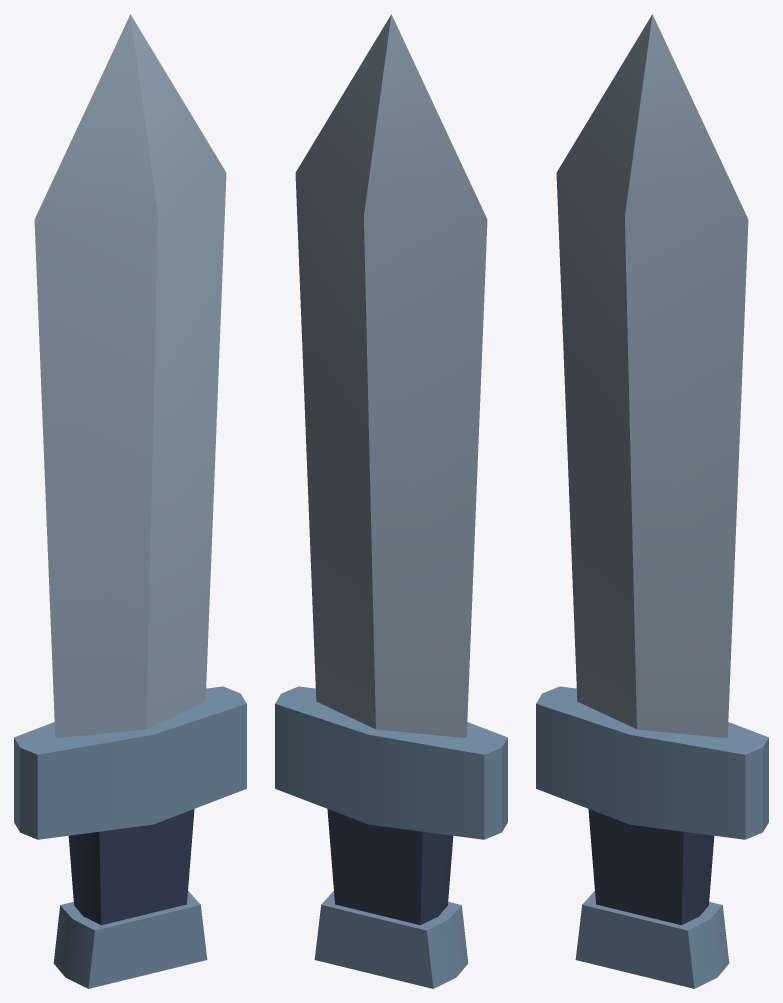
File: Sword A Multi.fbx
The picture shows the model from 3 angles, left to right: view 1: azimuth 30°, elevation 25°; view 2: azimuth 150°, elevation 25°; view 3: azimuth 330°, elevation 25°; orthographic projection.
Parts seen in each view (by area): view 1: Sword A; view 2: Sword A; view 3: Sword A.
Boxes of the visible parts, left/top/right/bottom form: Sword A: left=14, top=14, right=246, bottom=988; Sword A: left=275, top=14, right=507, bottom=988; Sword A: left=536, top=14, right=768, bottom=988.
Size of the model in its own units: 0.3453 by 1.42 by 0.1498.
